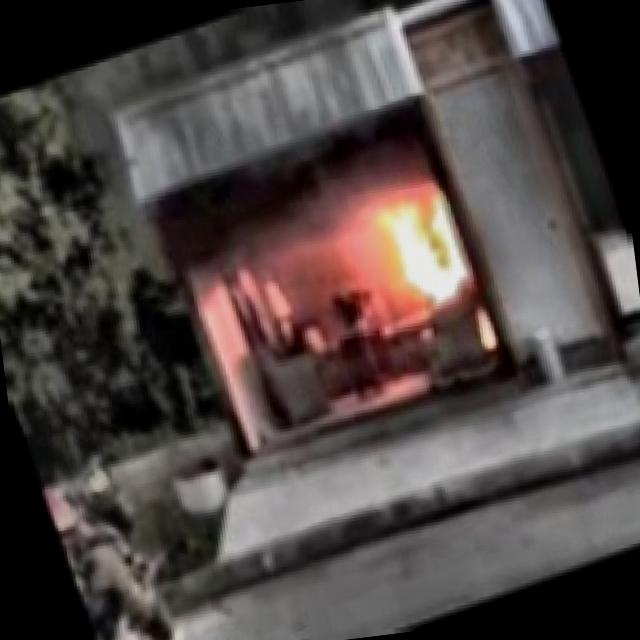fire: (347, 148, 494, 322)
